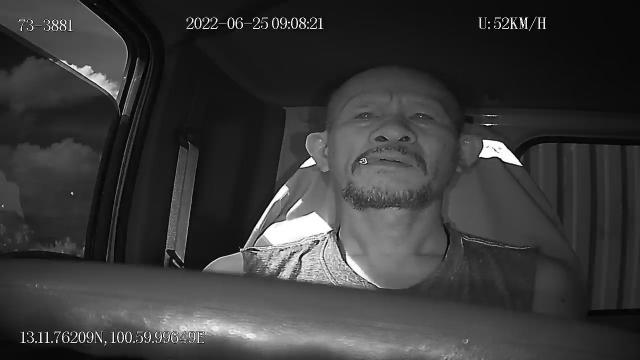SafeDriving: (402, 101, 442, 130), (346, 101, 384, 128)
Smoking: (360, 156, 380, 166)
